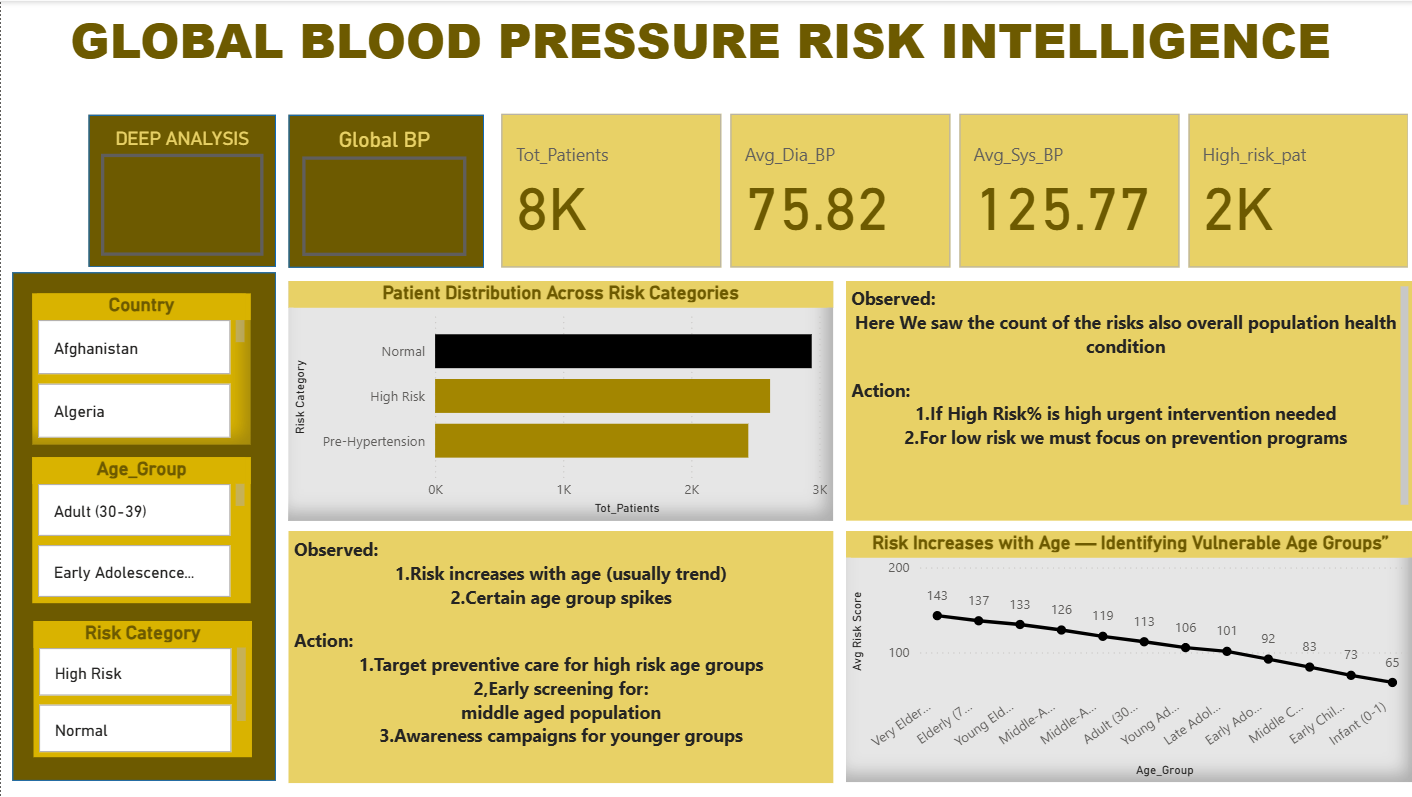

What the dashboard file says about the page in this screenshot:
{"tool":"powerbi","page":{"name":"Global BP","canvas":[1280,720],"ordinal":0},"visuals":[{"type":"textbox","box":[10.1,0,1259.3,77.6],"z":0},{"type":"cardVisual","fields":{"Data":["blood_pressure_global_dataset.Tot_Patients","blood_pressure_global_dataset.Avg_Dia_BP","blood_pressure_global_dataset.Avg_Sys_BP","blood_pressure_global_dataset.High_risk_pat"]},"box":[444.6,96.9,833.8,149.2],"z":1000},{"type":"clusteredColumnChart","fields":{"Category":["blood_pressure_global_dataset.Country"],"Y":["blood_pressure_global_dataset.Avg_Dia_BP","blood_pressure_global_dataset.Avg_Sys_BP"]},"box":[249.3,245.9,519.3,232.1],"z":2000},{"type":"columnChart","fields":{"Category":["blood_pressure_global_dataset.Risk Category"],"Y":["blood_pressure_global_dataset.Tot_Patients"]},"box":[778.9,245.9,500.4,232.1],"z":3000},{"type":"barChart","fields":{"Category":["blood_pressure_global_dataset.Age_Group"],"Y":["blood_pressure_global_dataset.Tot_Patients"]},"box":[249.3,490.1,519.3,216.7],"z":4000},{"type":"lineChart","fields":{"Category":["blood_pressure_global_dataset.Age_Group"],"Y":["blood_pressure_global_dataset.Avg_Sys_BP"]},"box":[778.6,489.8,500.5,216],"z":5000},{"type":"shape","box":[10.1,96.3,238.6,609.5],"z":6000},{"type":"advancedSlicerVisual","fields":{"Values":["blood_pressure_global_dataset.Country"]},"box":[29.9,113.4,196.8,186.1],"z":7000},{"type":"advancedSlicerVisual","fields":{"Values":["blood_pressure_global_dataset.Age_Group"]},"box":[29.9,308,196.8,181.8],"z":8000},{"type":"advancedSlicerVisual","fields":{"Values":["blood_pressure_global_dataset.Risk Category"]},"box":[29.9,511.2,196.8,173.3],"z":9000},{"type":"shape","box":[264.6,107.7,169.2,127.7],"z":10000},{"type":"actionButton","title":"DEEP ANALYSIS","box":[298.9,143.3,100,73.3],"z":11000}]}

Visuals, with their boxes in screenshot pixels (x1, y1, x2, y2), scaled from the page's 1280x720 canvas onto the 1412x797 screenshot:
textbox: x1=11 y1=0 x2=1400 y2=86
cardVisual - blood_pressure_global_dataset.Tot_Patients x blood_pressure_global_dataset.Avg_Dia_BP: x1=490 y1=107 x2=1410 y2=272
clusteredColumnChart - blood_pressure_global_dataset.Country x blood_pressure_global_dataset.Avg_Dia_BP: x1=275 y1=272 x2=848 y2=529
columnChart - blood_pressure_global_dataset.Risk Category x blood_pressure_global_dataset.Tot_Patients: x1=859 y1=272 x2=1411 y2=529
barChart - blood_pressure_global_dataset.Age_Group x blood_pressure_global_dataset.Tot_Patients: x1=275 y1=543 x2=848 y2=782
lineChart - blood_pressure_global_dataset.Age_Group x blood_pressure_global_dataset.Avg_Sys_BP: x1=859 y1=542 x2=1411 y2=781
shape: x1=11 y1=107 x2=274 y2=781
advancedSlicerVisual - blood_pressure_global_dataset.Country: x1=33 y1=126 x2=250 y2=332
advancedSlicerVisual - blood_pressure_global_dataset.Age_Group: x1=33 y1=341 x2=250 y2=542
advancedSlicerVisual - blood_pressure_global_dataset.Risk Category: x1=33 y1=566 x2=250 y2=758
shape: x1=292 y1=119 x2=479 y2=261
"DEEP ANALYSIS" actionButton: x1=330 y1=159 x2=440 y2=240
